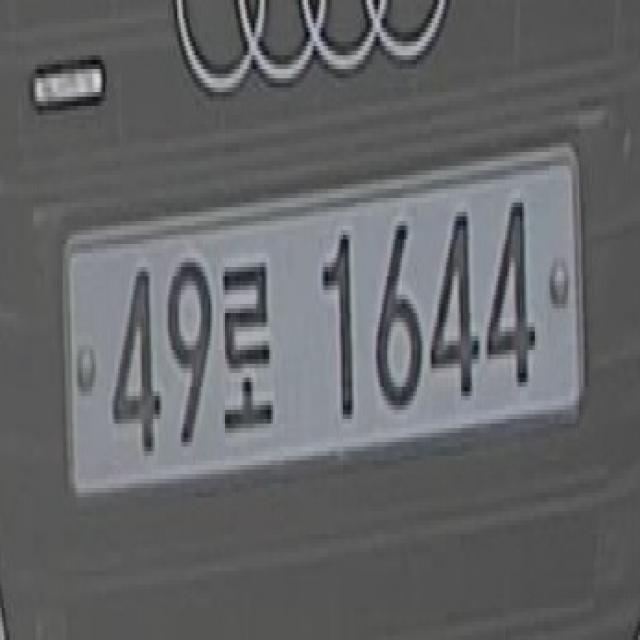1: (318, 214, 365, 437)
4: (486, 186, 548, 402), (109, 252, 163, 472), (430, 206, 482, 420)
6: (371, 204, 423, 420)
9: (166, 241, 213, 459)
license_plate: (60, 132, 587, 517)
lo: (217, 238, 278, 458)
